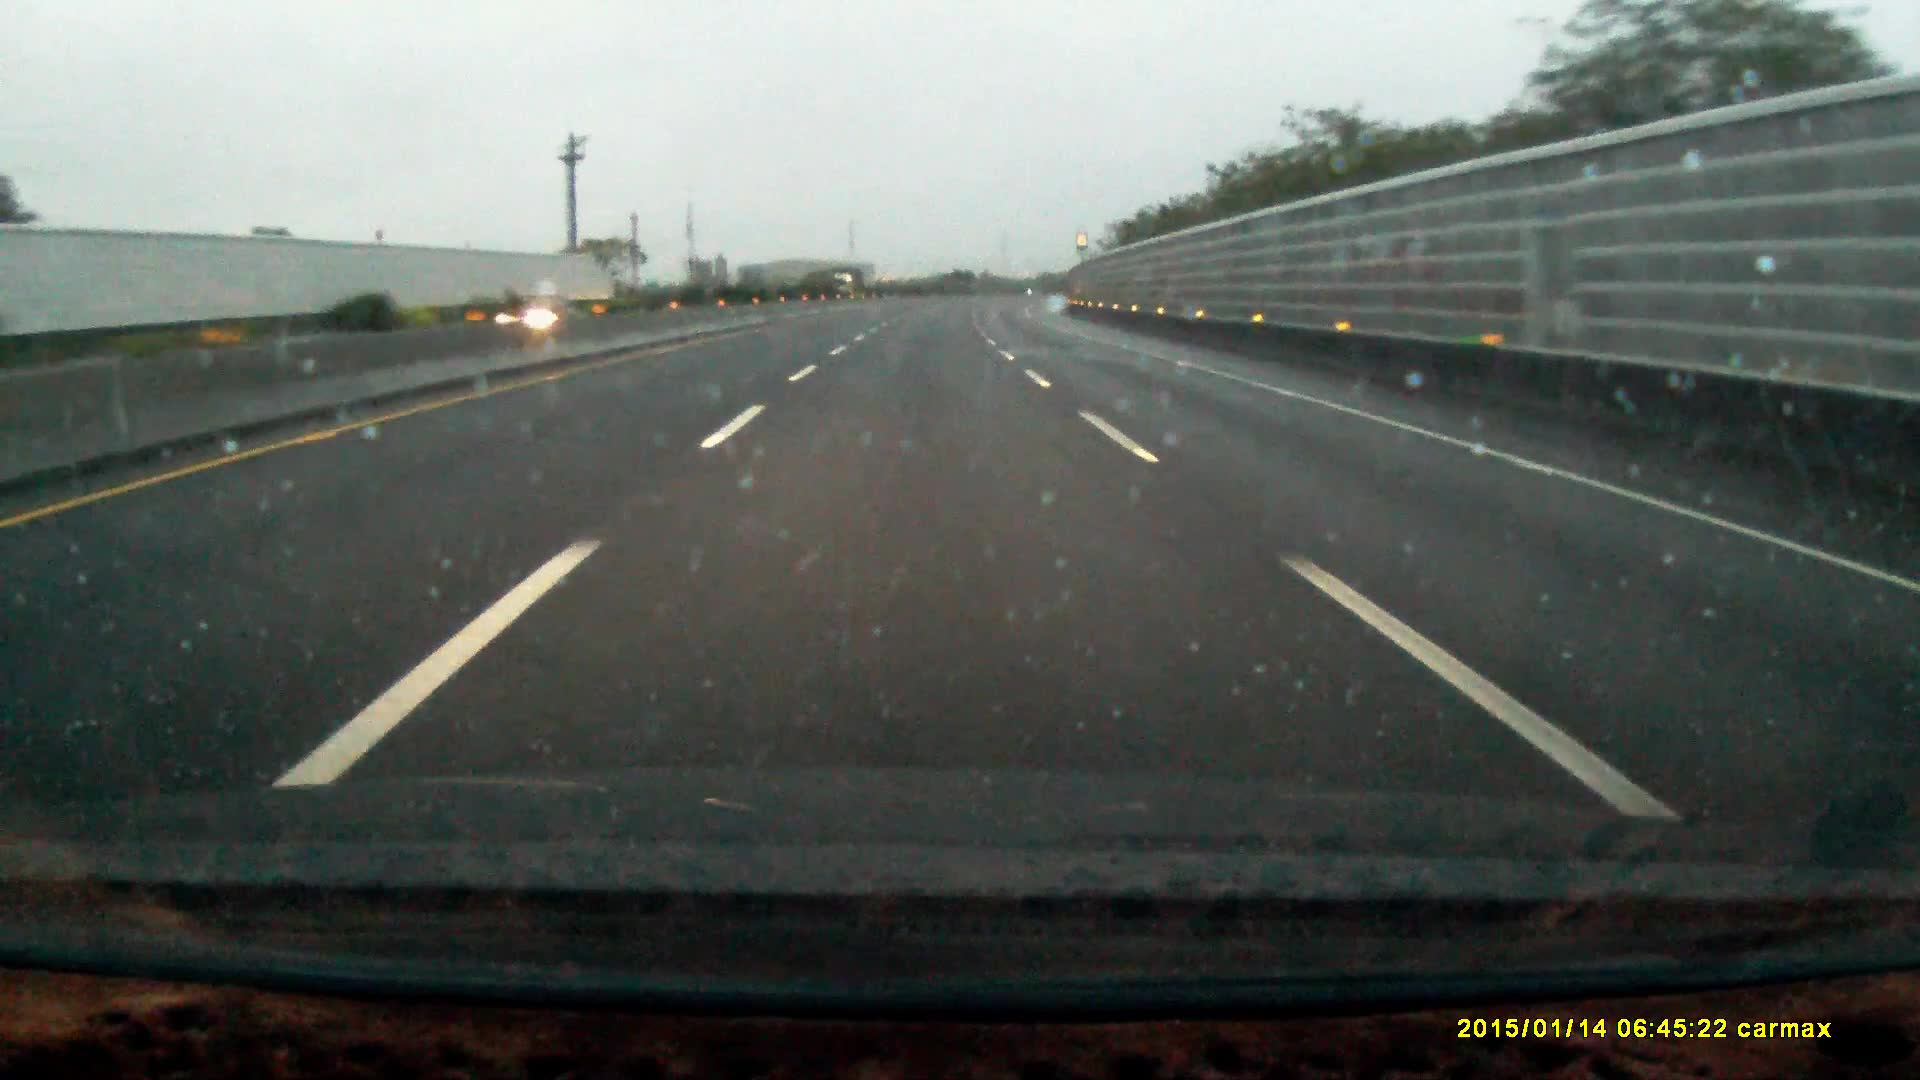vehicle: (491, 295, 593, 347), (832, 268, 866, 305)
